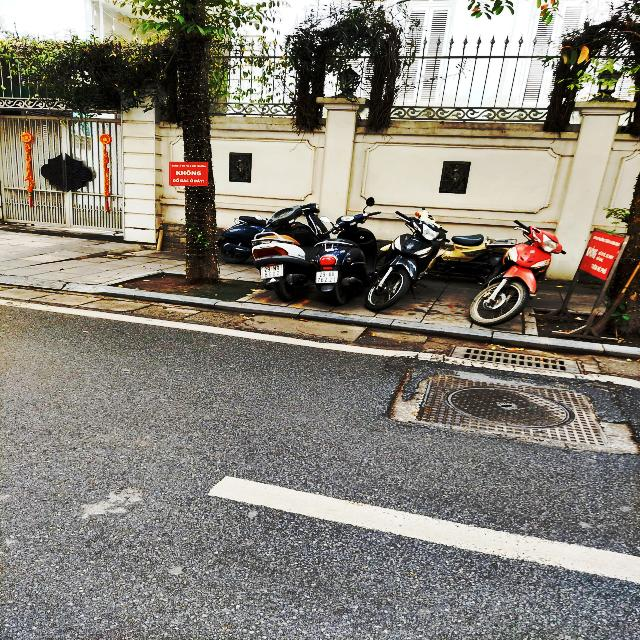license_plate: (260, 264, 285, 281), (315, 270, 340, 285)
